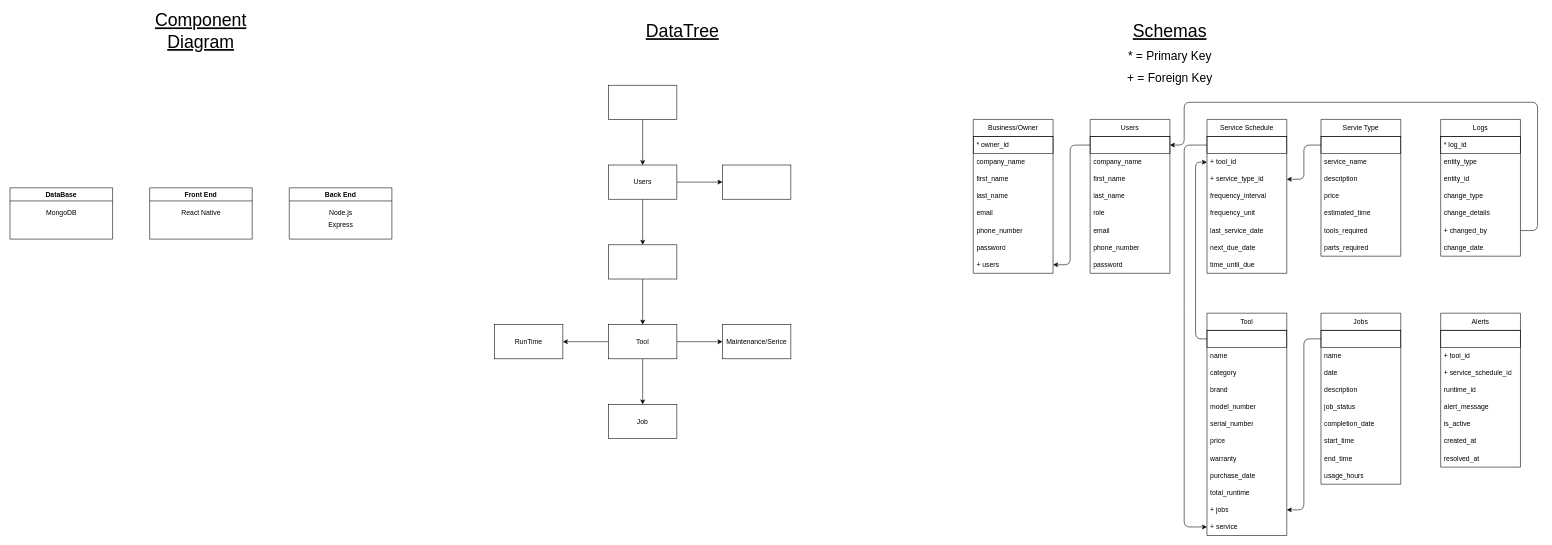
The diagram is 1552 pixels wide and 545 high, and some of its shapes have lost their labels. The centre of each missing label's shape, as x and y in pixels:
"* alert_id" belongs at [1480,338].
"* job_id" belongs at [1360,338].
"* service_schedule_id" belongs at [1246,145].
"* service_type_id" belongs at [1360,145].
"* tool_id" belongs at [1246,338].
"* user_id" belongs at [1130,145].
"Business Owner" belongs at [642,102].
"Tools" belongs at [642,261].
"User Settings" belongs at [756,181].
